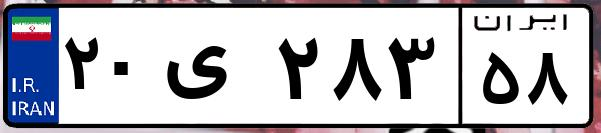0: (110, 28, 158, 98)
2: (270, 28, 330, 110), (57, 26, 110, 100)
3: (385, 28, 445, 110)
5: (475, 38, 525, 113)
8: (330, 28, 385, 110), (525, 38, 570, 115)
ی: (158, 20, 270, 120)
